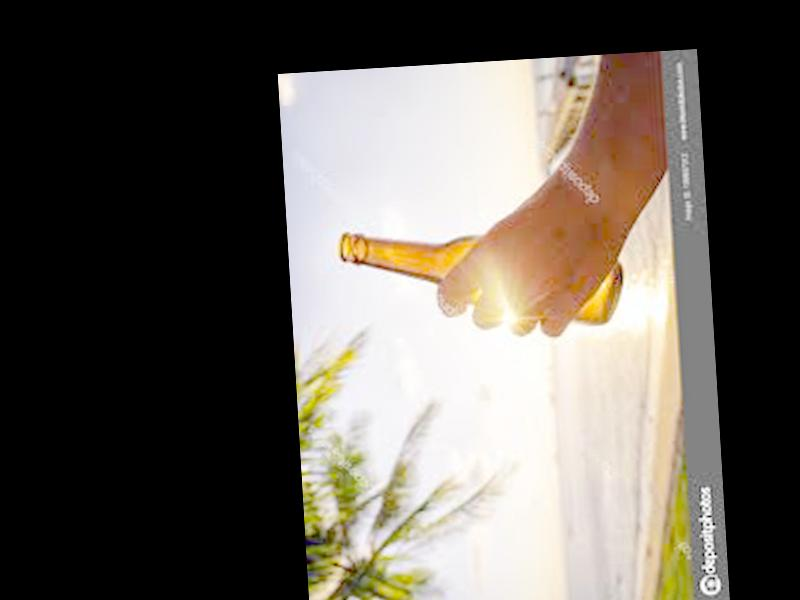Beer: (337, 215, 626, 340)
